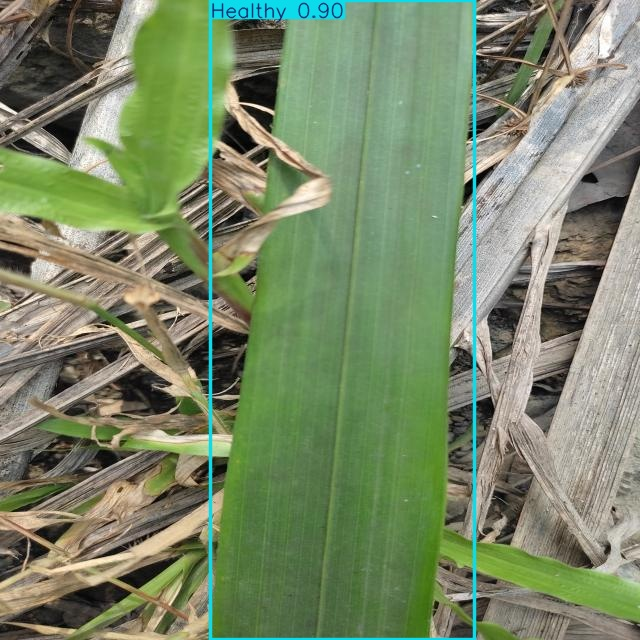Healthy: (211, 1, 475, 640)
